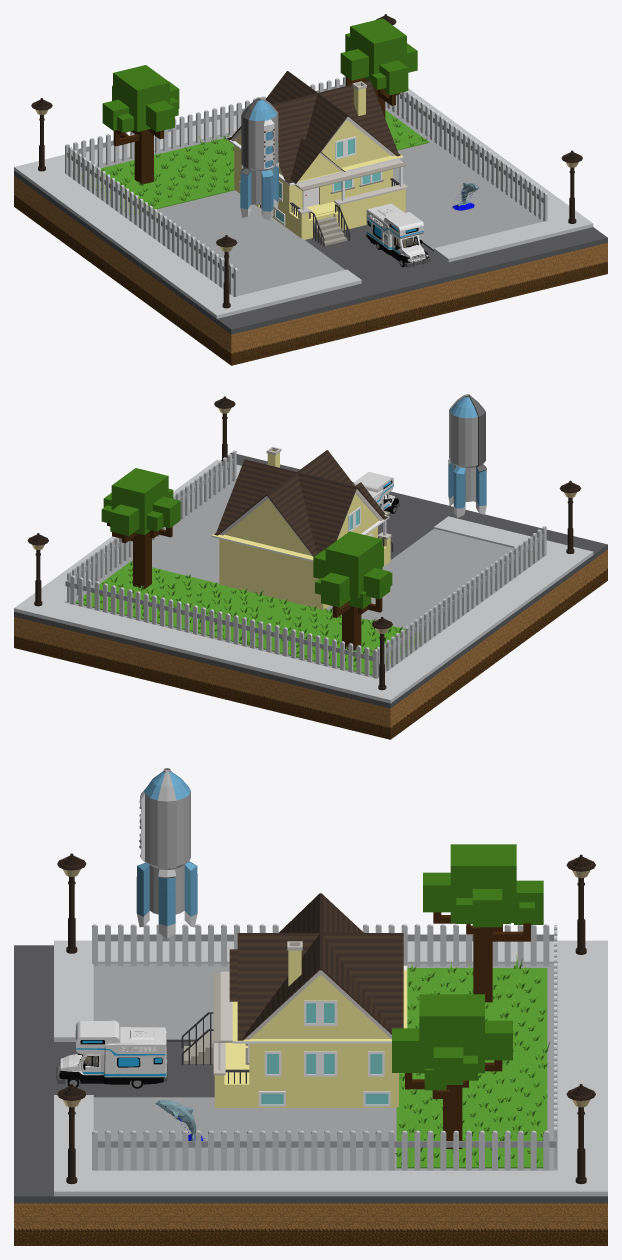
The picture shows the model from 3 angles, top to bottom: view 1: azimuth 30°, elevation 25°; view 2: azimuth 150°, elevation 25°; view 3: azimuth 270°, elevation 25°; orthographic projection. The views are drawn at different scales.
Visible parts, largest first — view 1: Cube.004, Cube.1555, OBJRANDOM_ROCKETSHIP, VEHICLES_CAMPER; view 2: Cube.004, Cube.1555, OBJRANDOM_ROCKETSHIP, VEHICLES_CAMPER; view 3: Cube.004, Cube.1555, OBJRANDOM_ROCKETSHIP, VEHICLES_CAMPER, ANIMAL_DELFIN.
Boxes of the visible parts, <box> form: Cube.004: <box>14,14,607,365</box>; Cube.1555: <box>226,71,408,246</box>; OBJRANDOM_ROCKETSHIP: <box>240,97,279,220</box>; VEHICLES_CAMPER: <box>366,203,430,267</box>; Cube.004: <box>14,396,607,739</box>; Cube.1555: <box>211,446,392,609</box>; OBJRANDOM_ROCKETSHIP: <box>448,394,486,517</box>; VEHICLES_CAMPER: <box>354,472,400,513</box>; Cube.004: <box>14,844,607,1245</box>; Cube.1555: <box>181,893,407,1107</box>; OBJRANDOM_ROCKETSHIP: <box>136,768,197,938</box>; VEHICLES_CAMPER: <box>56,1020,167,1088</box>; ANIMAL_DELFIN: <box>155,1100,204,1140</box>.
Bounding box in the file's own units: 4000 × 2169 × 4000.
Materials: 38 (3 with a texture image).
